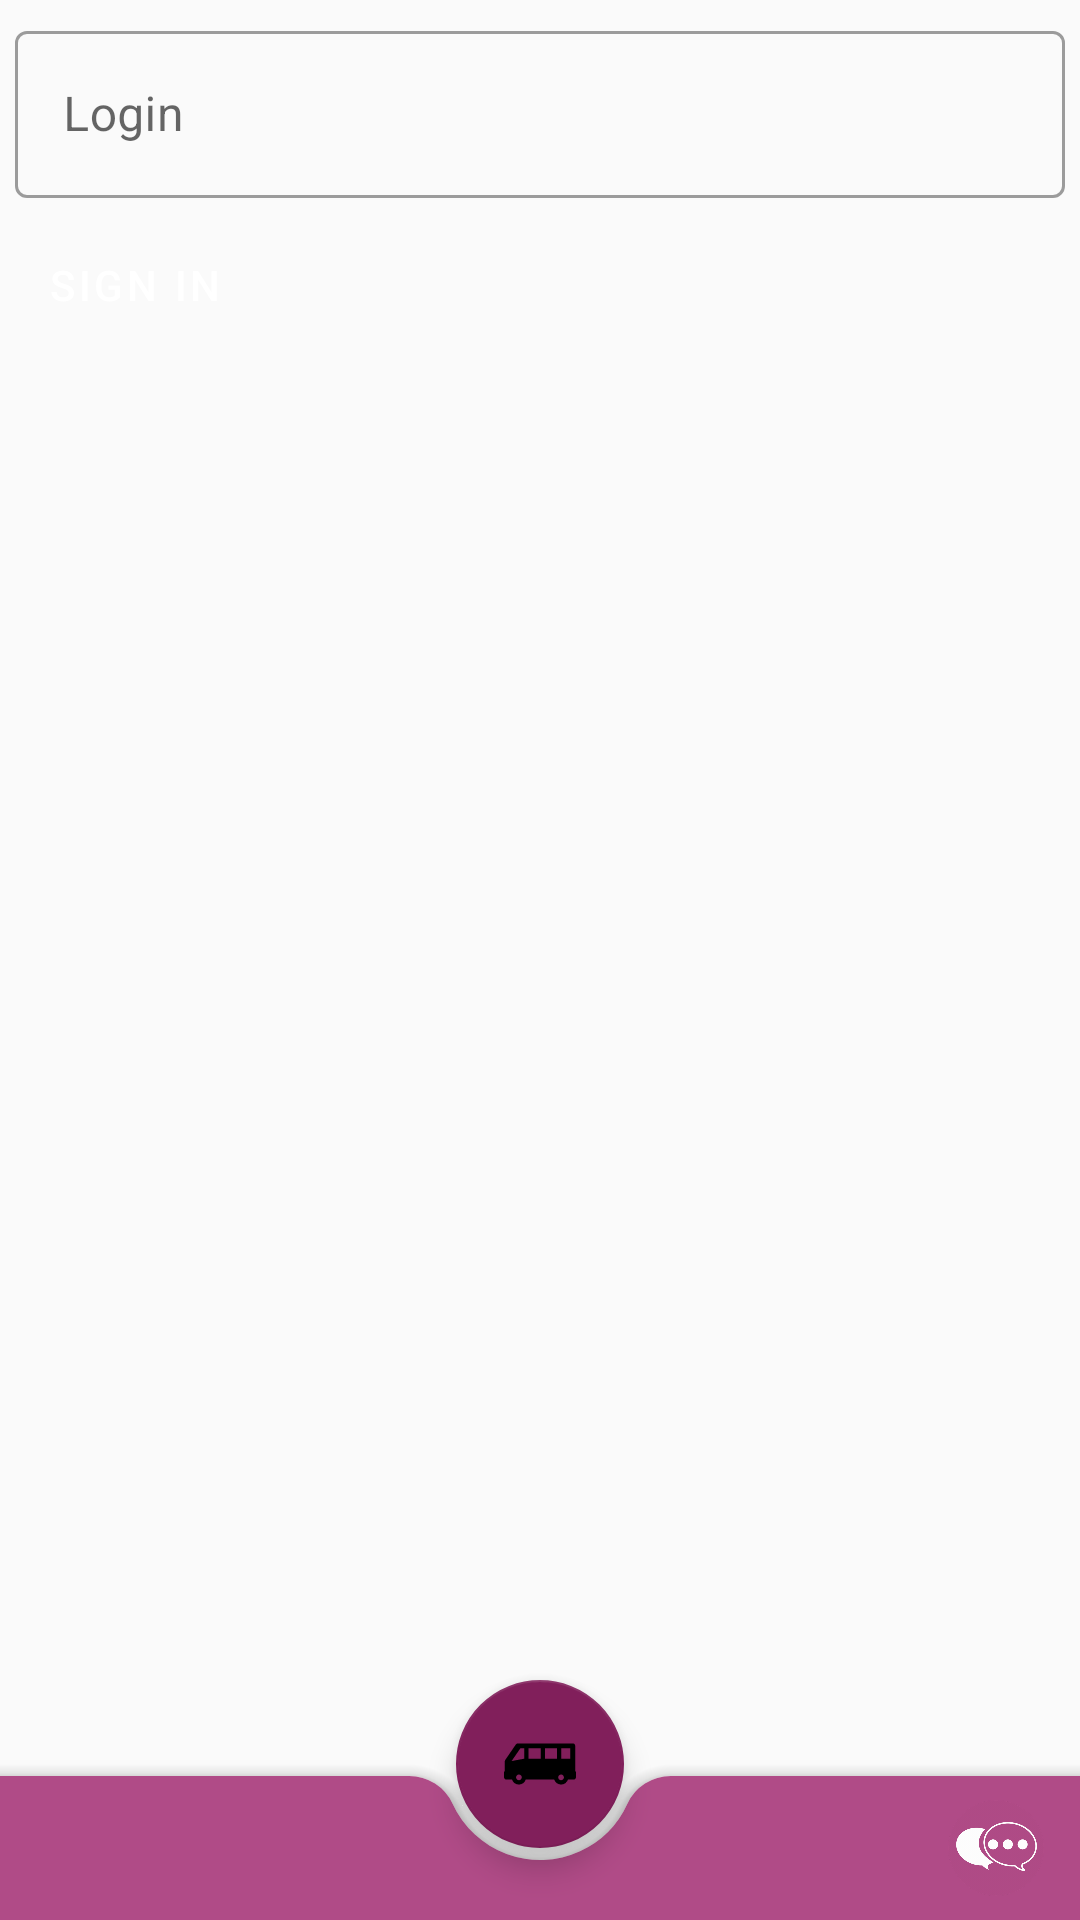

Named icons in this screenshot (1080x1920) and their centers, [x,y]:
angkot: [540,1776]
